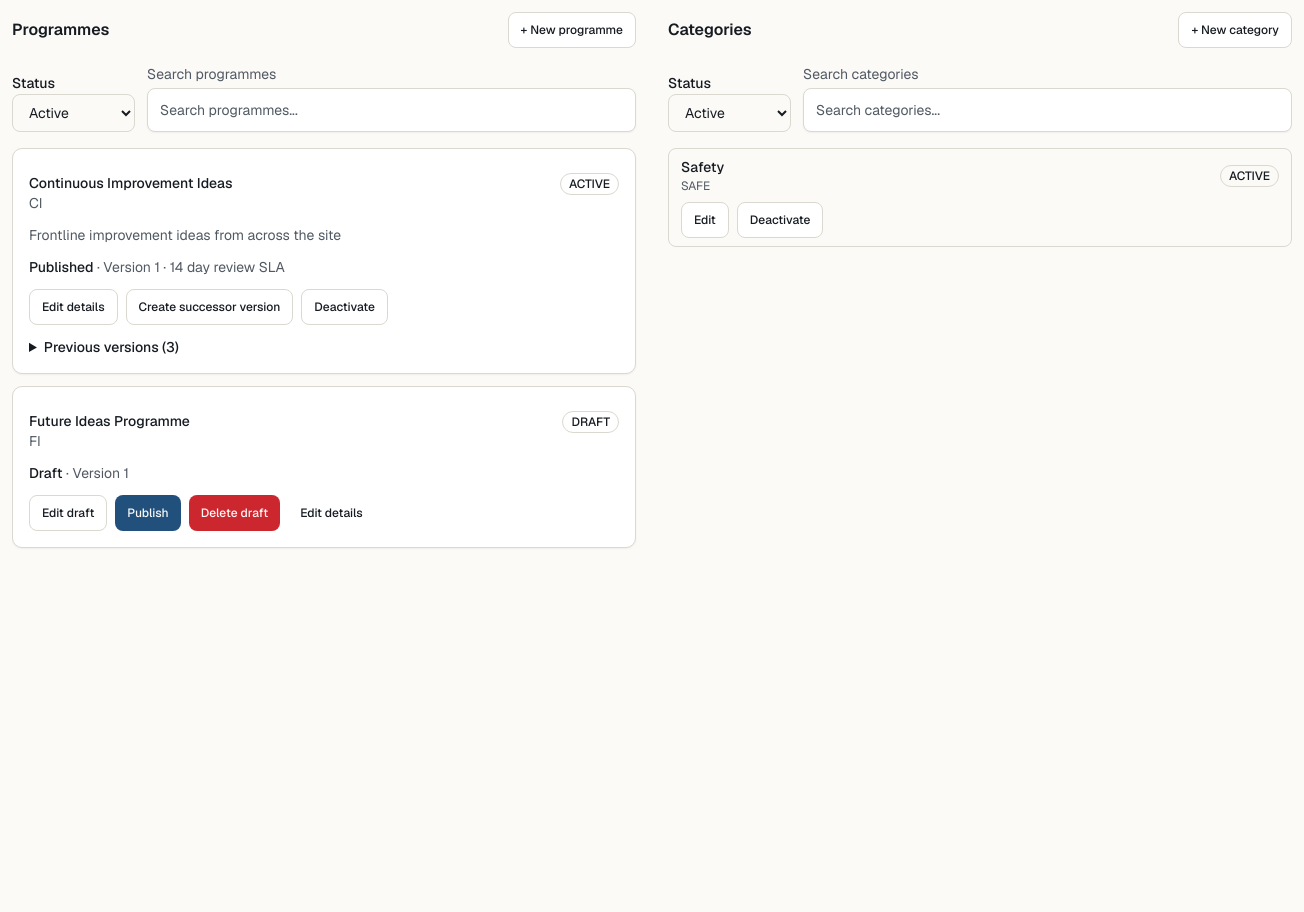
Test: ProgrammeManagement administration UX › expands programme and category create panels from action buttons
Click the button with test id "new-programme-button".
click(572, 30)  # box [508,12,636,48]
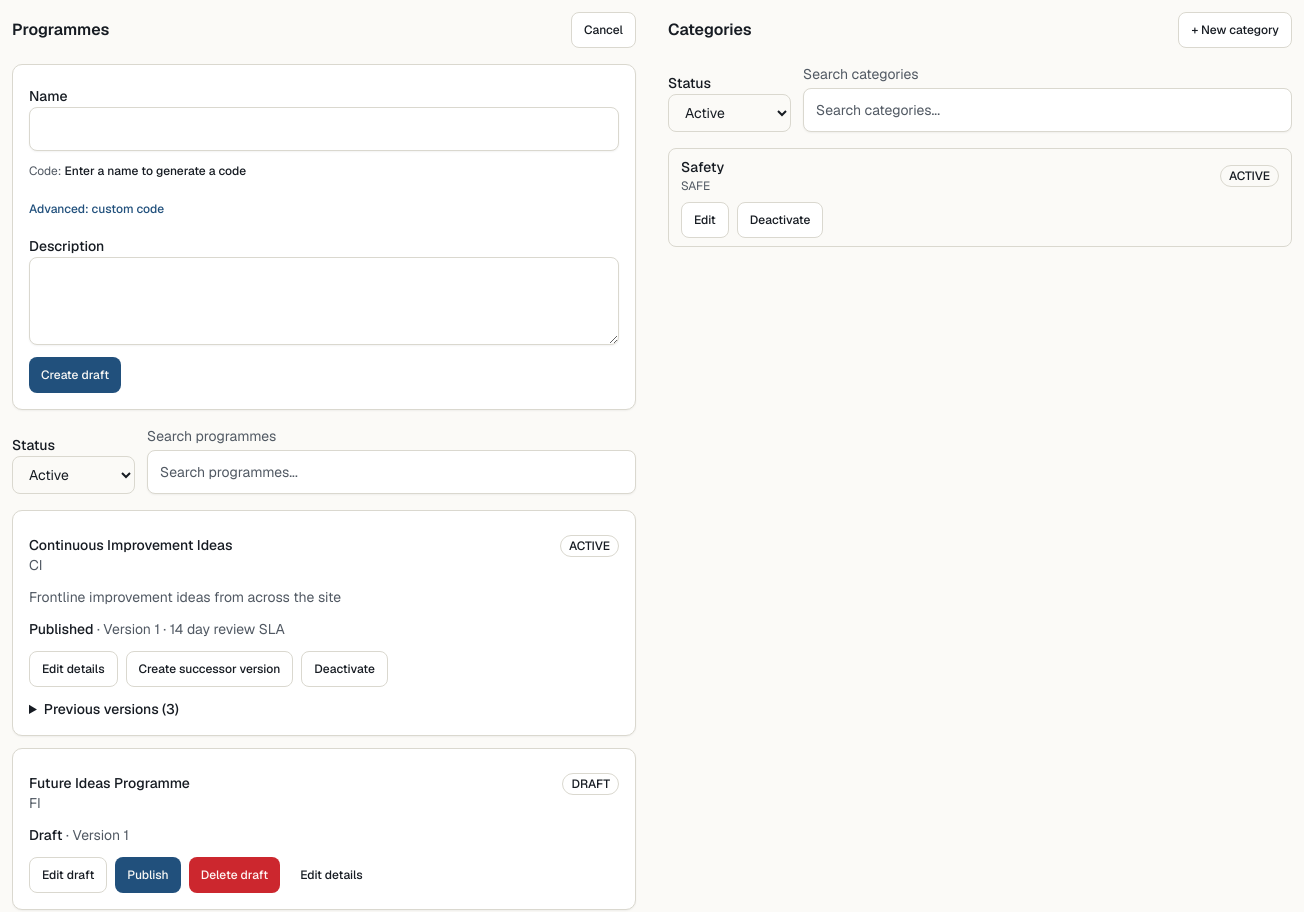
Expected: the element with test id "programme-create-panel" is shown, [12,64,636,410]
Click the button with test id "new-category-button".
click(1235, 30)  # box [1178,12,1292,48]
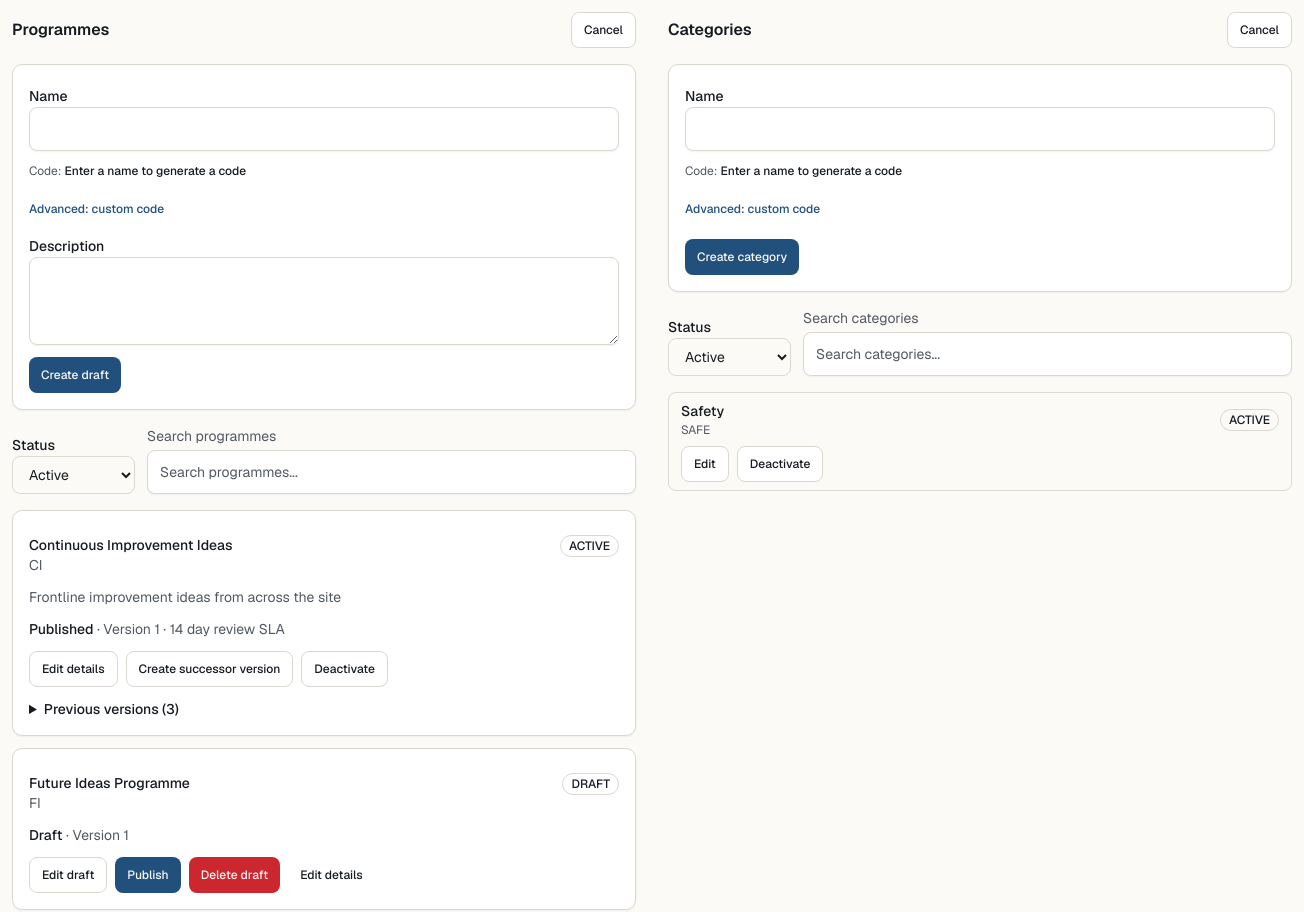
Expected: the element with test id "category-create-panel" is shown, [668,64,1292,292]
